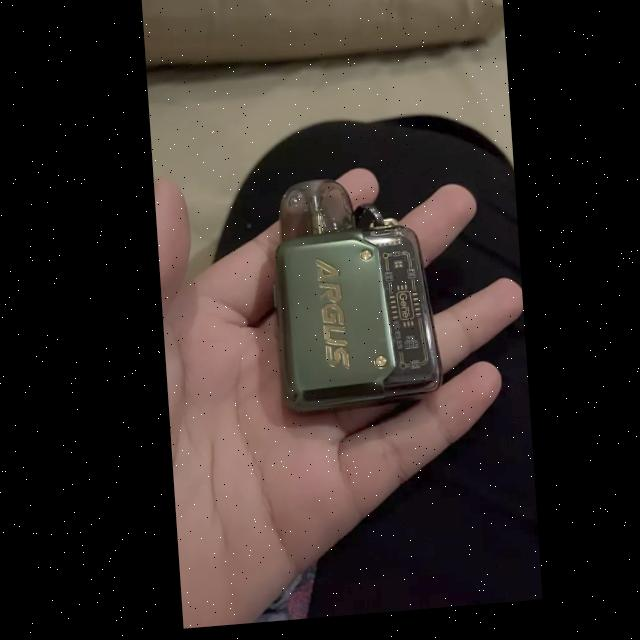vape: (261, 175, 441, 420)
